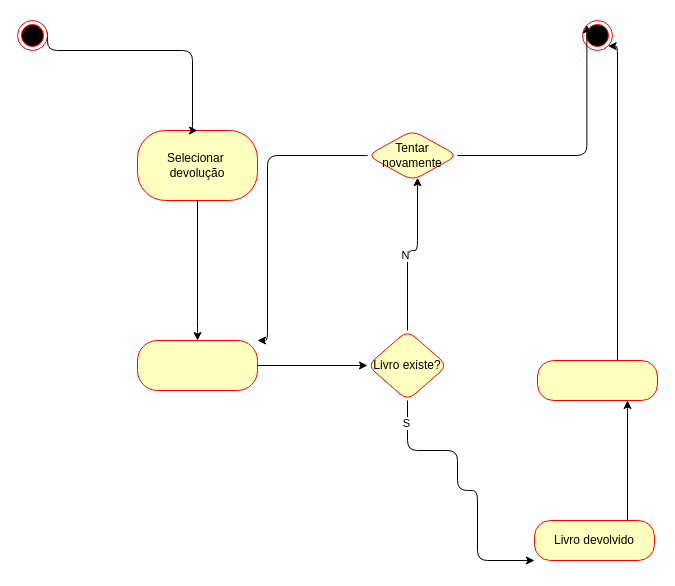
This 675x586 diagram has some shape labels left out. The box of each missing label's shape, as (x1, y1, x2, y2) in pixels:
Digitar ISBN: (136, 340, 258, 390)
Marcar histórico: (536, 360, 658, 400)
